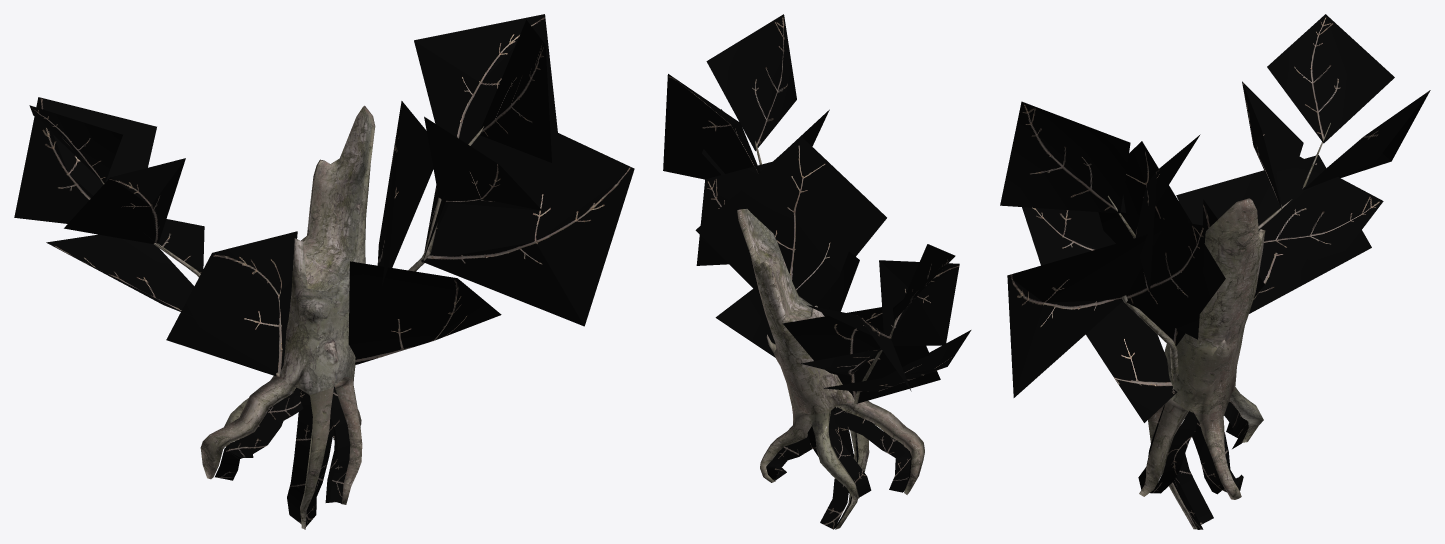
File: SM_Tree_bent_05.fbx
The picture shows the model from 3 angles, left to right: view 1: azimuth 30°, elevation 25°; view 2: azimuth 150°, elevation 25°; view 3: azimuth 270°, elevation 25°; orthographic projection. The views are drawn at different scales.
Parts seen in each view (by area): view 1: SM_Tree_bent_05; view 2: SM_Tree_bent_05; view 3: SM_Tree_bent_05.
Part boxes in pixels (bbox=[...]): SM_Tree_bent_05: bbox=[14, 14, 634, 529]; SM_Tree_bent_05: bbox=[663, 14, 971, 529]; SM_Tree_bent_05: bbox=[1000, 14, 1430, 529].
Bounding box in the file's own units: 417 × 360 × 461.
Materials: 2 (2 with a texture image).
